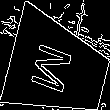M_E: (33, 39, 83, 98)
